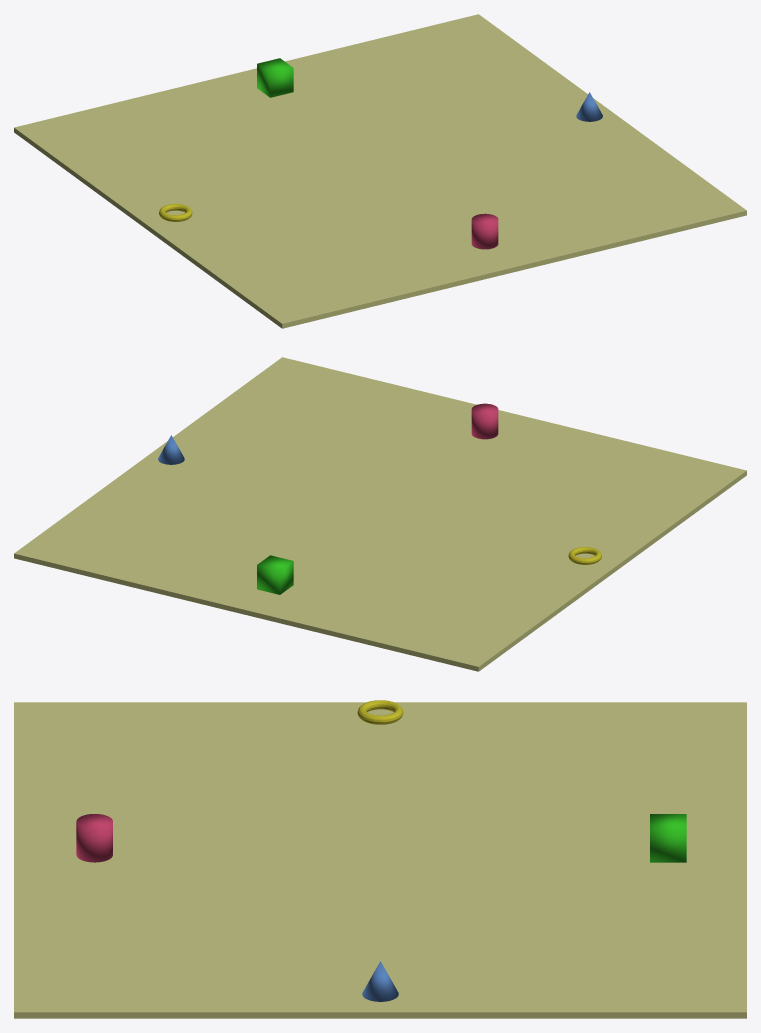
3 views of the same model, one above another, from view 1: azimuth 30°, elevation 25°; view 2: azimuth 150°, elevation 25°; view 3: azimuth 270°, elevation 25° (orthographic). The views are drawn at different scales.
Parts seen in each view (by area): view 1: Plane, Cube.001, Cylinder; view 2: Plane, Cube.001, Cylinder; view 3: Plane, Cube.001, Cylinder, Cone, Torus.
Boxes of the visible parts, <box> form: Plane: <box>14,14,746,328</box>; Cube.001: <box>257,58,293,97</box>; Cylinder: <box>471,213,498,249</box>; Plane: <box>14,357,746,671</box>; Cube.001: <box>257,555,293,594</box>; Cylinder: <box>471,403,498,439</box>; Plane: <box>14,702,746,1018</box>; Cube.001: <box>650,814,686,862</box>; Cylinder: <box>76,814,112,862</box>; Cone: <box>362,961,398,1001</box>; Torus: <box>357,700,403,724</box>.
Bounding box in the file's own units: 40 × 2.55 × 40.
